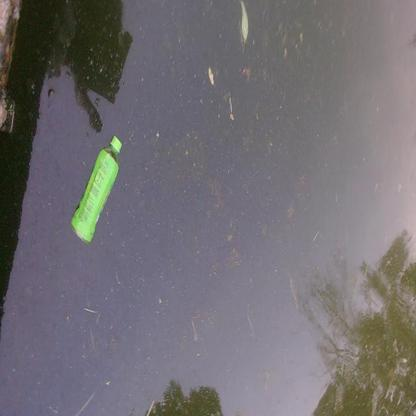plastic bottle: (70, 135, 123, 243)
